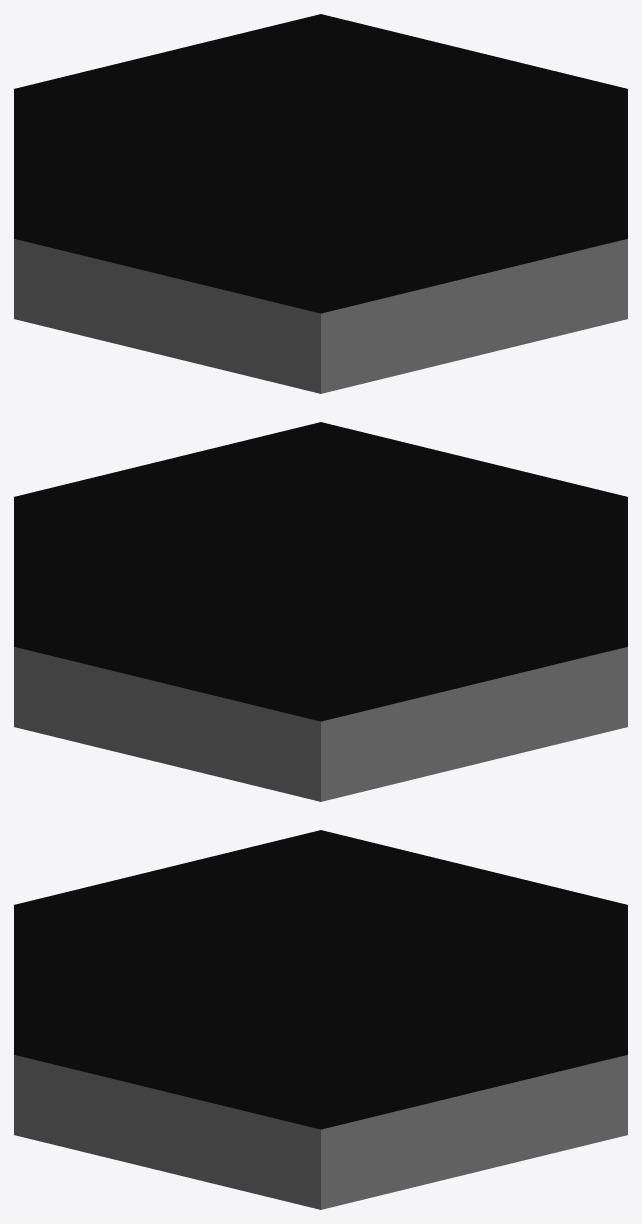
File: tile-base-final.obj
The picture shows the model from 3 angles, top to bottom: view 1: azimuth 30°, elevation 25°; view 2: azimuth 150°, elevation 25°; view 3: azimuth 270°, elevation 25°; orthographic projection.
Parts seen in each view (by area): view 1: tile_base; view 2: tile_base; view 3: tile_base.
Boxes of the visible parts, x1=… form: tile_base: x1=14, y1=14, x2=627, y2=393; tile_base: x1=14, y1=422, x2=627, y2=801; tile_base: x1=14, y1=830, x2=627, y2=1209.
Bounding box in the file's own units: 2 × 0.25 × 1.73.
Materials: 1 (1 with a texture image).
